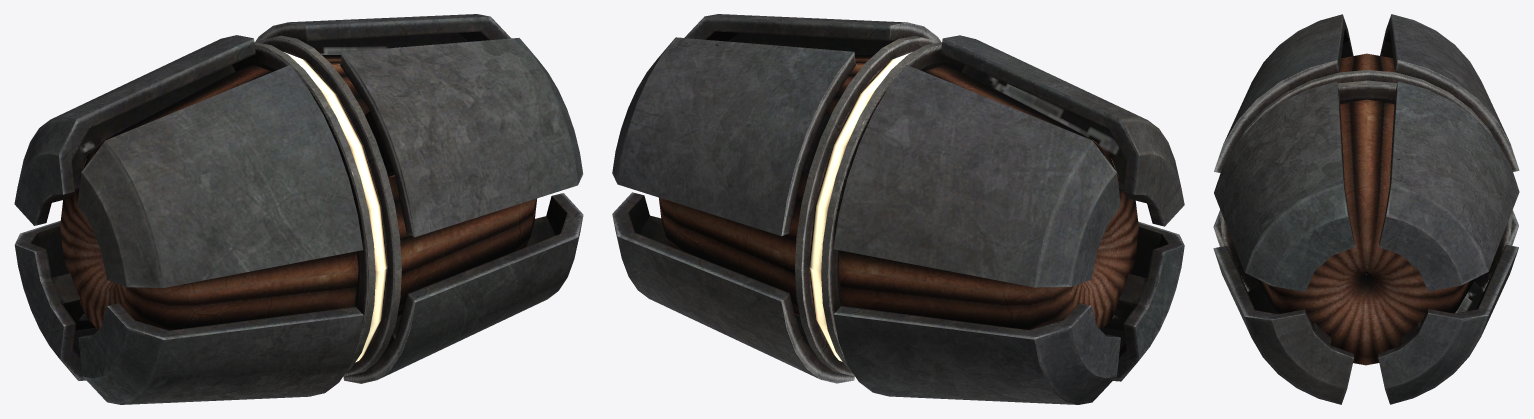
File: mothership_barrel_enhanced.glb
3 renders of one model, left to right at view 1: azimuth 30°, elevation 25°; view 2: azimuth 150°, elevation 25°; view 3: azimuth 270°, elevation 25°, orthographic. The views are drawn at different scales.
Parts seen in each view (by area): view 1: Object_4; view 2: Object_4; view 3: Object_4.
Boxes of the visible parts, x1,y1,x2,y2 form: Object_4: [14, 14, 583, 404]; Object_4: [612, 14, 1184, 404]; Object_4: [1213, 14, 1519, 404].
Bounding box in the file's own units: 2.31 × 1.58 × 1.58.
Materials: 1 (1 with a texture image).
